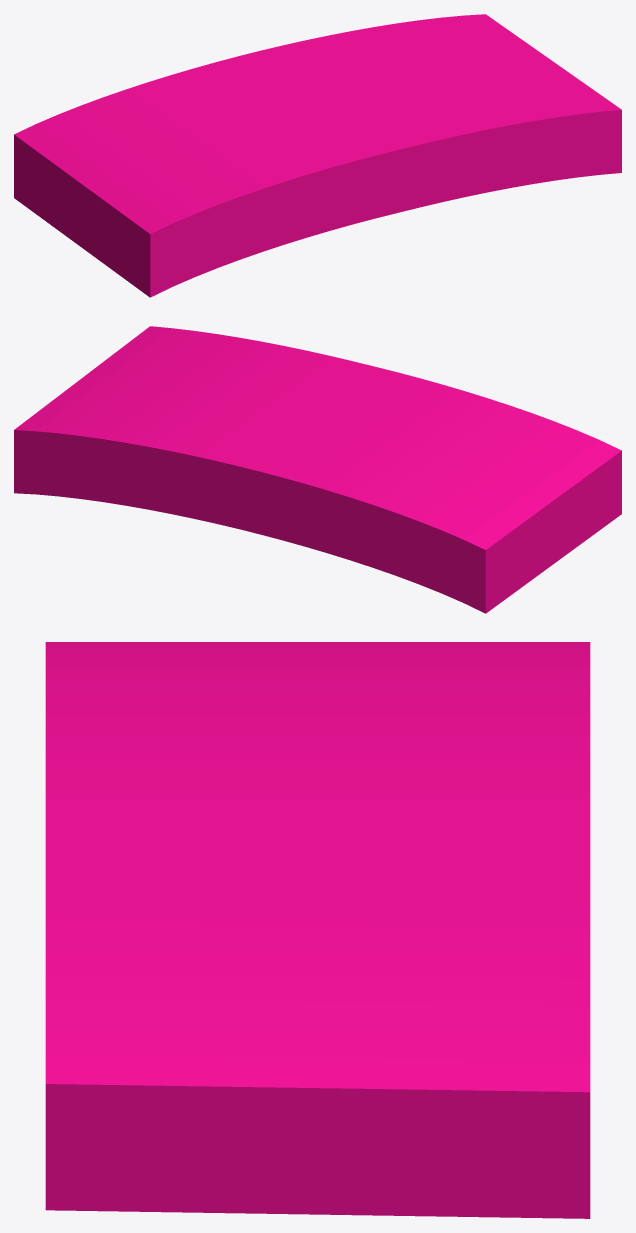
Rendered from paddle.fbx.
3 views of the same model, one above another, from view 1: azimuth 30°, elevation 25°; view 2: azimuth 150°, elevation 25°; view 3: azimuth 270°, elevation 25° (orthographic). The views are drawn at different scales.
Visible parts, largest first — view 1: Pattle; view 2: Pattle; view 3: Pattle.
Boxes of the visible parts, x1,y1,x2,y2 form: Pattle: [14, 14, 621, 297]; Pattle: [14, 326, 621, 613]; Pattle: [45, 642, 590, 1218].
Bounding box in the file's own units: 4 × 0.7066 × 2.
